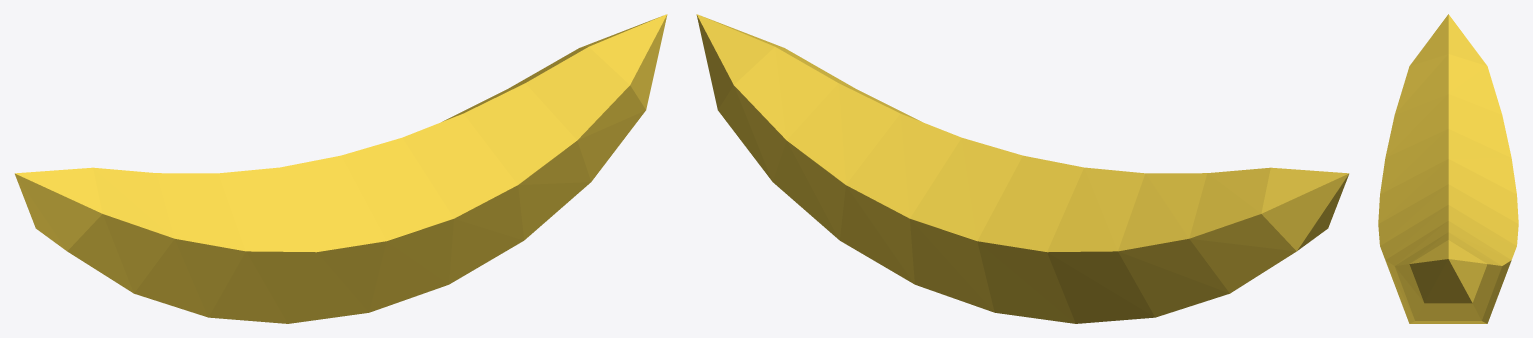
Rendered from Food_Banana.obj.
The picture shows the model from 3 angles, left to right: view 1: azimuth 30°, elevation 25°; view 2: azimuth 150°, elevation 25°; view 3: azimuth 270°, elevation 25°; orthographic projection. The views are drawn at different scales.
Size of the model in its own units: 2.35 by 0.6836 by 0.5706.
